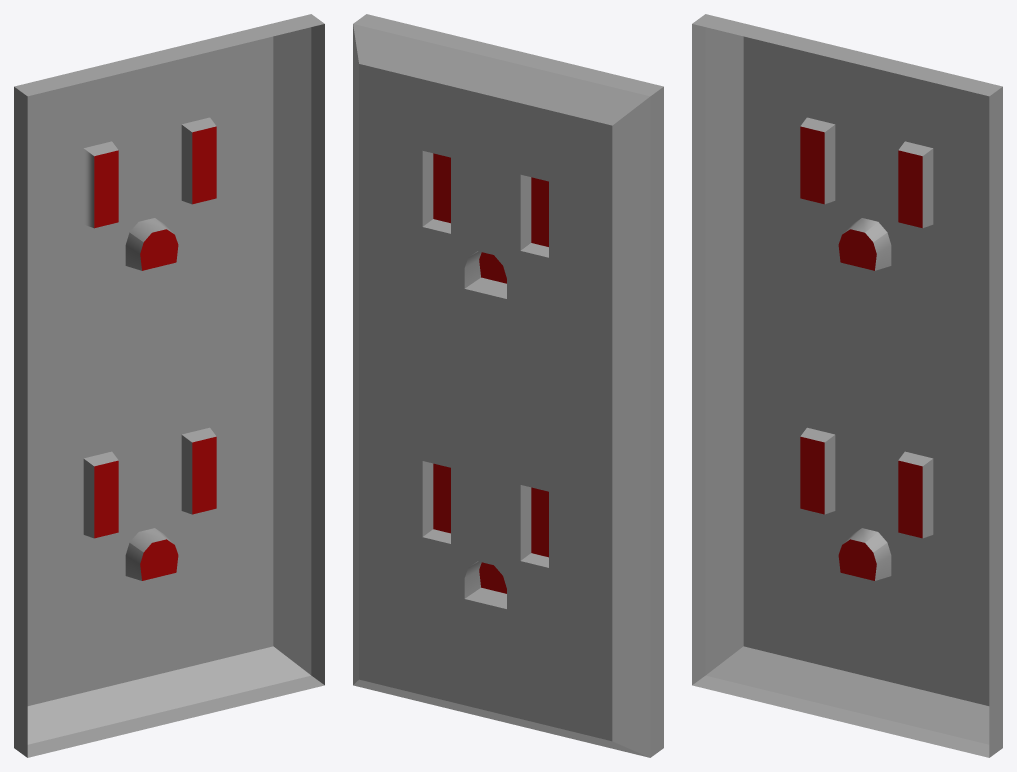
File: S_ElectricalSocket.fbx
The picture shows the model from 3 angles, left to right: view 1: azimuth 30°, elevation 25°; view 2: azimuth 150°, elevation 25°; view 3: azimuth 330°, elevation 25°; orthographic projection.
Parts seen in each view (by area): view 1: S_ElectricalSocket; view 2: S_ElectricalSocket; view 3: S_ElectricalSocket.
Boxes of the visible parts, x1,y1,x2,y2 form: S_ElectricalSocket: [14, 14, 324, 757]; S_ElectricalSocket: [353, 14, 663, 757]; S_ElectricalSocket: [692, 14, 1002, 757].
Size of the model in its own units: 9.16 by 19.47 by 1.57.
